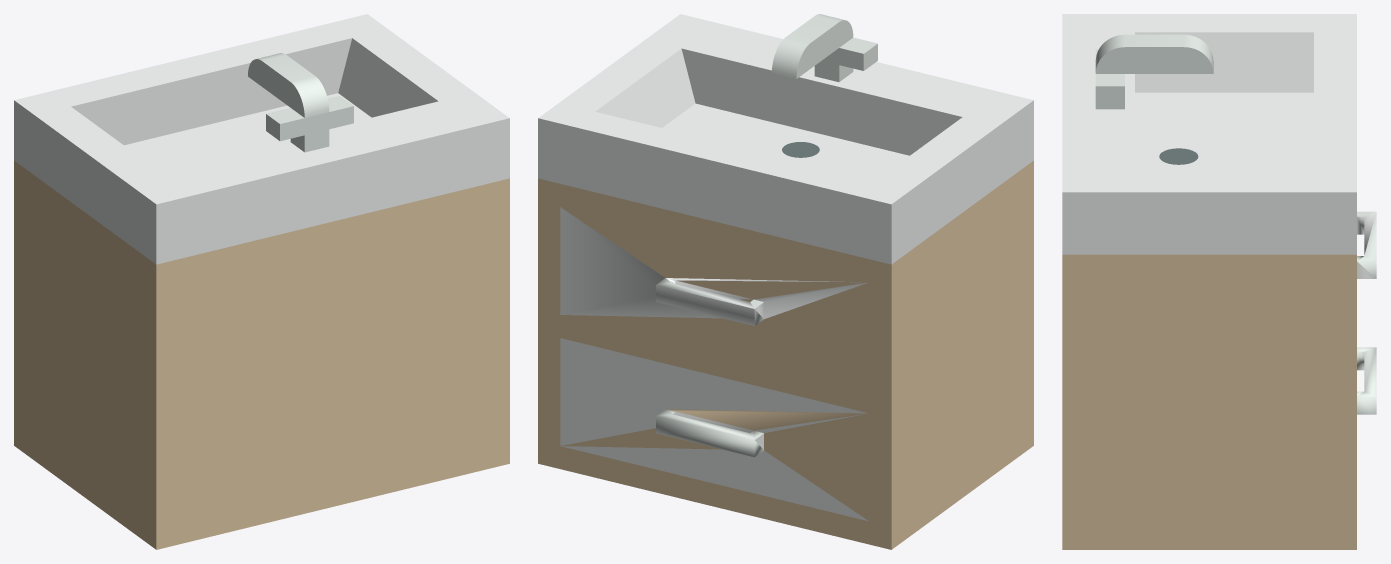
The model's file is kitchenCabinetDrawer.glb.
3 views of the same model, side by side, from view 1: azimuth 30°, elevation 25°; view 2: azimuth 150°, elevation 25°; view 3: azimuth 270°, elevation 25° (orthographic). The views are drawn at different scales.
Parts seen in each view (by area): view 1: kitchenCabinetDrawer; view 2: kitchenCabinetDrawer; view 3: kitchenCabinetDrawer.
Part boxes in pixels (x1,y1,x2,y2): kitchenCabinetDrawer: (14, 14, 509, 549); kitchenCabinetDrawer: (538, 14, 1033, 549); kitchenCabinetDrawer: (1062, 14, 1376, 549).
Bounding box in the file's own units: 4.3 × 4.72 × 3.2.
